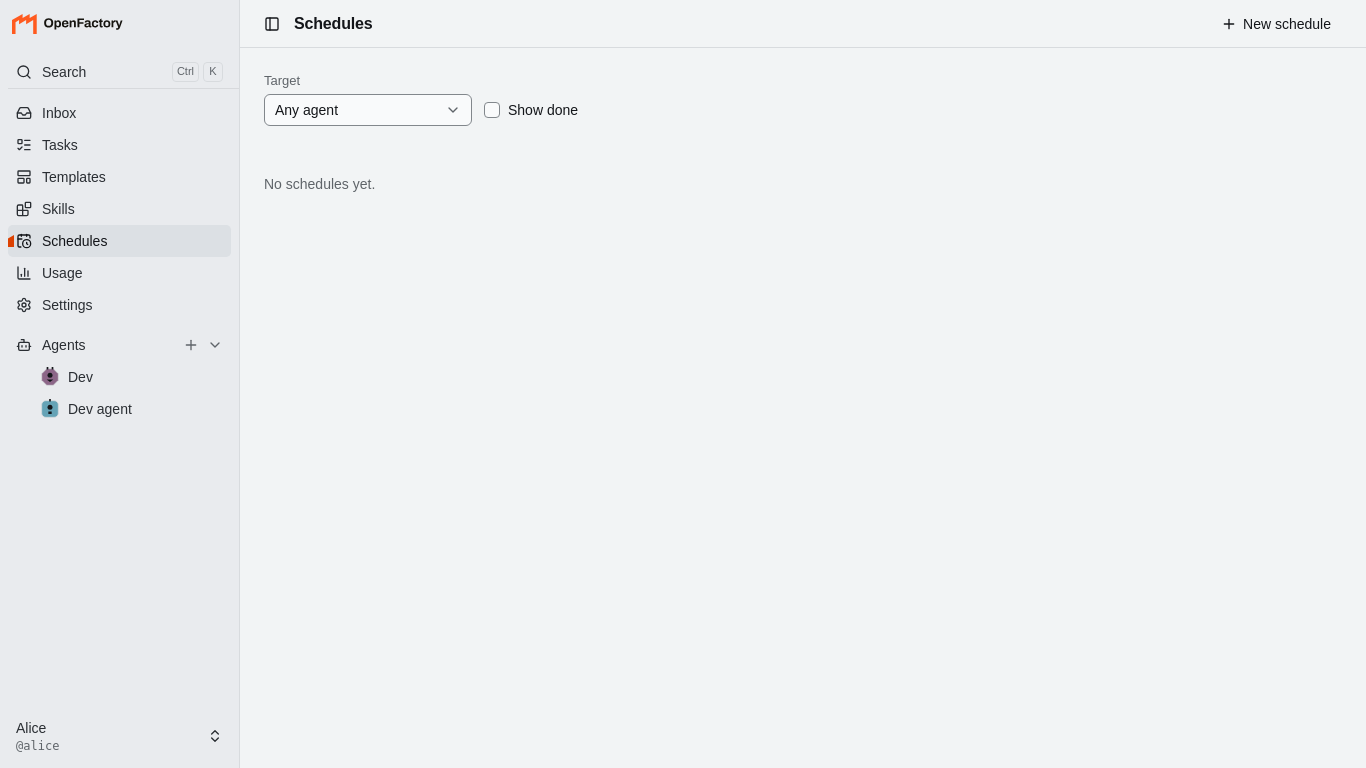
filters live in the URL; empty states, and the cap line
This screenshot has width=1366, height=768.
Expected: the text "No schedules yet." is shown, [264,176,375,192]
Click the dropdown named "Target": (368, 110) [264,94,472,126]
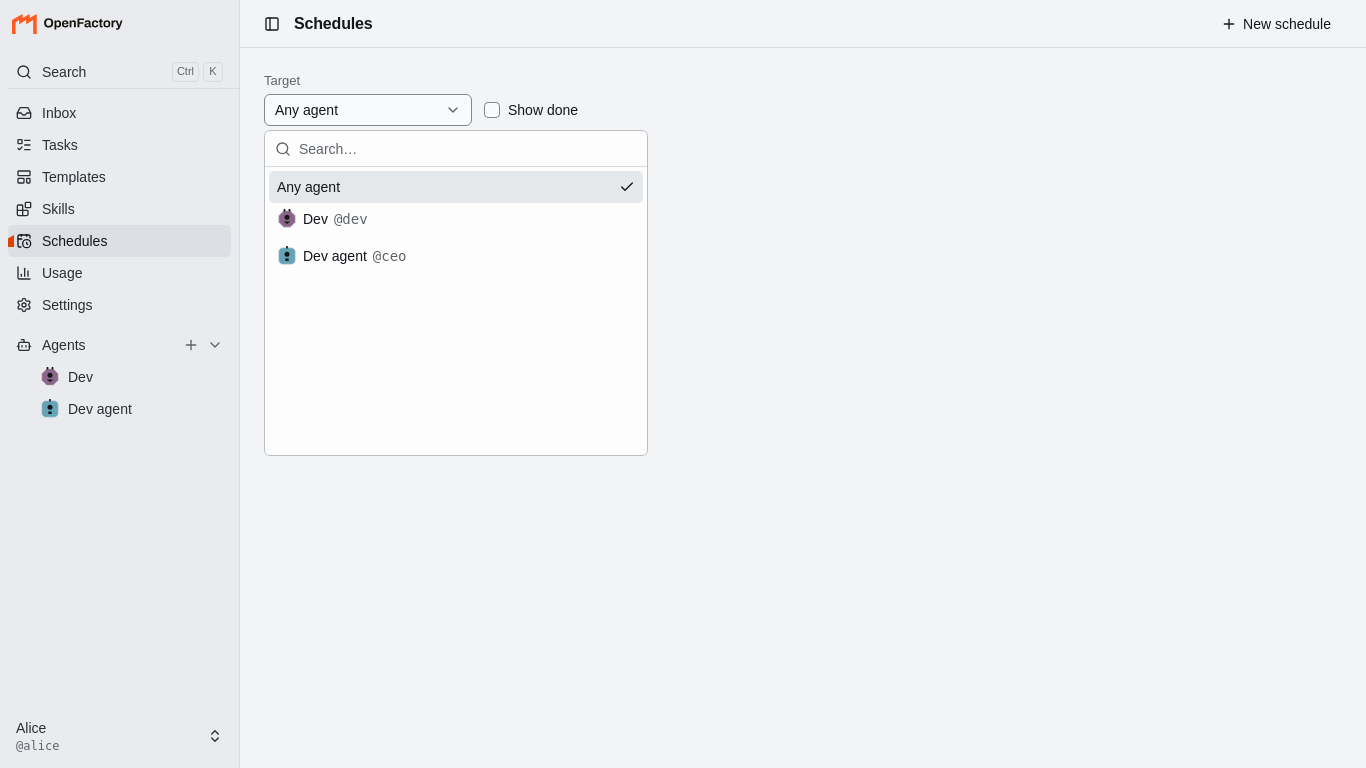
Click the option named "@dev": (322, 219) [277,209,368,229]
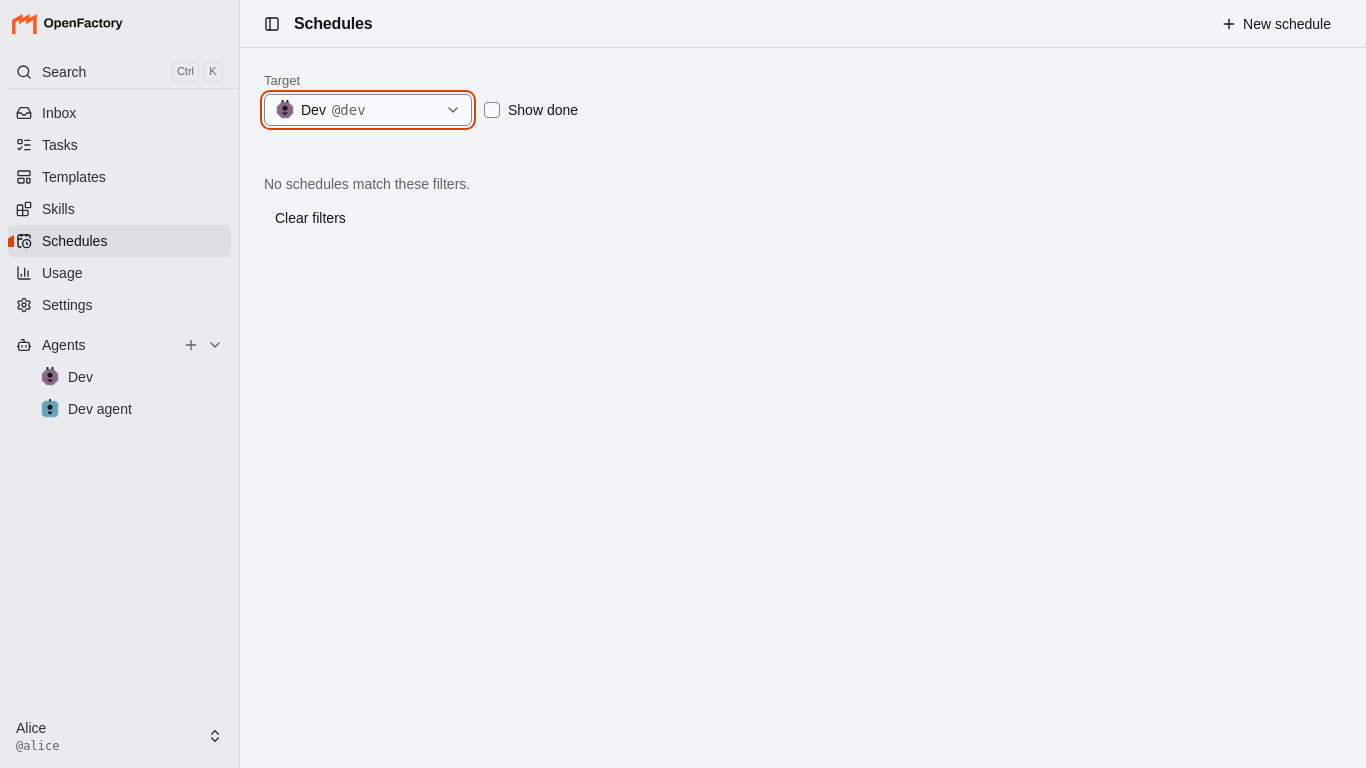
Result: the text "No schedules match these filters." is shown at [264,174,470,194]
Click the checkbox named "Show done": (492, 110) [484,102,500,118]
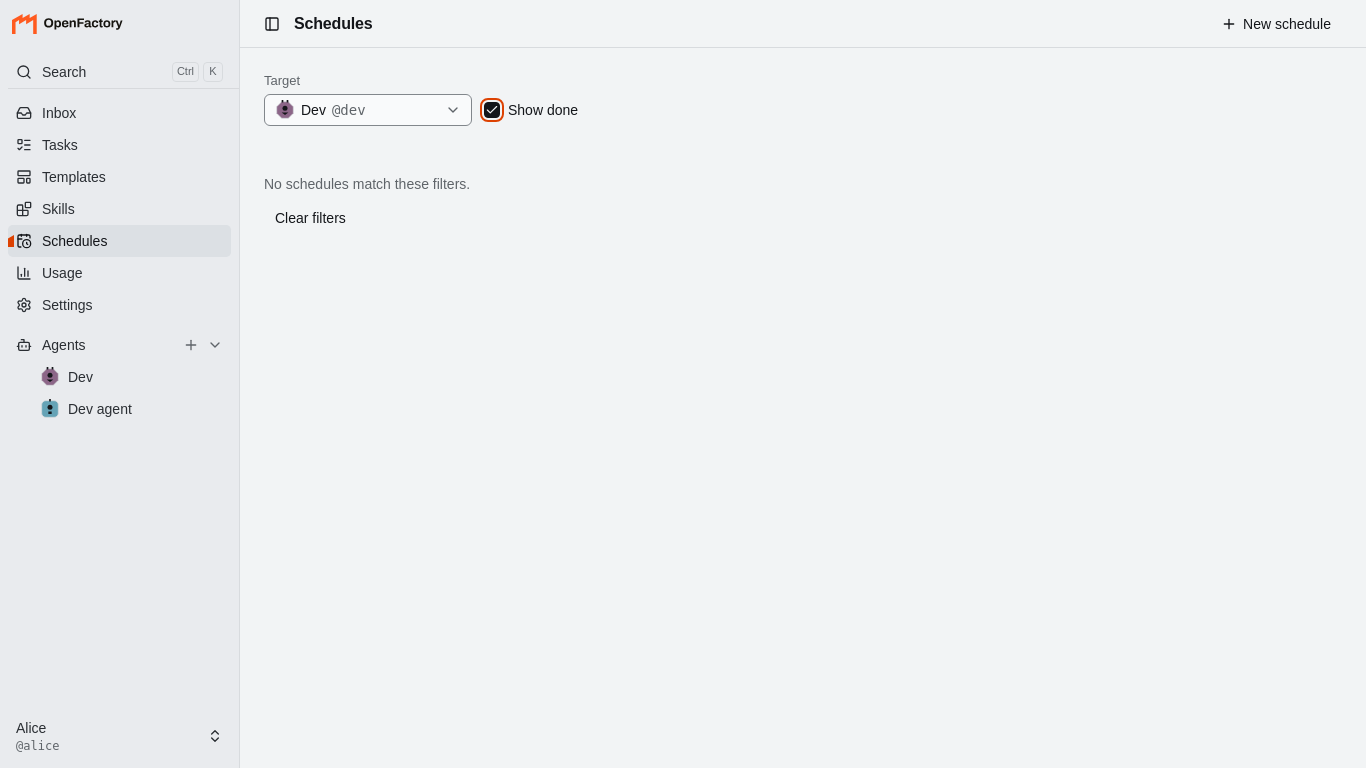
Click the button "Clear filters": (310, 218) [264,202,357,234]
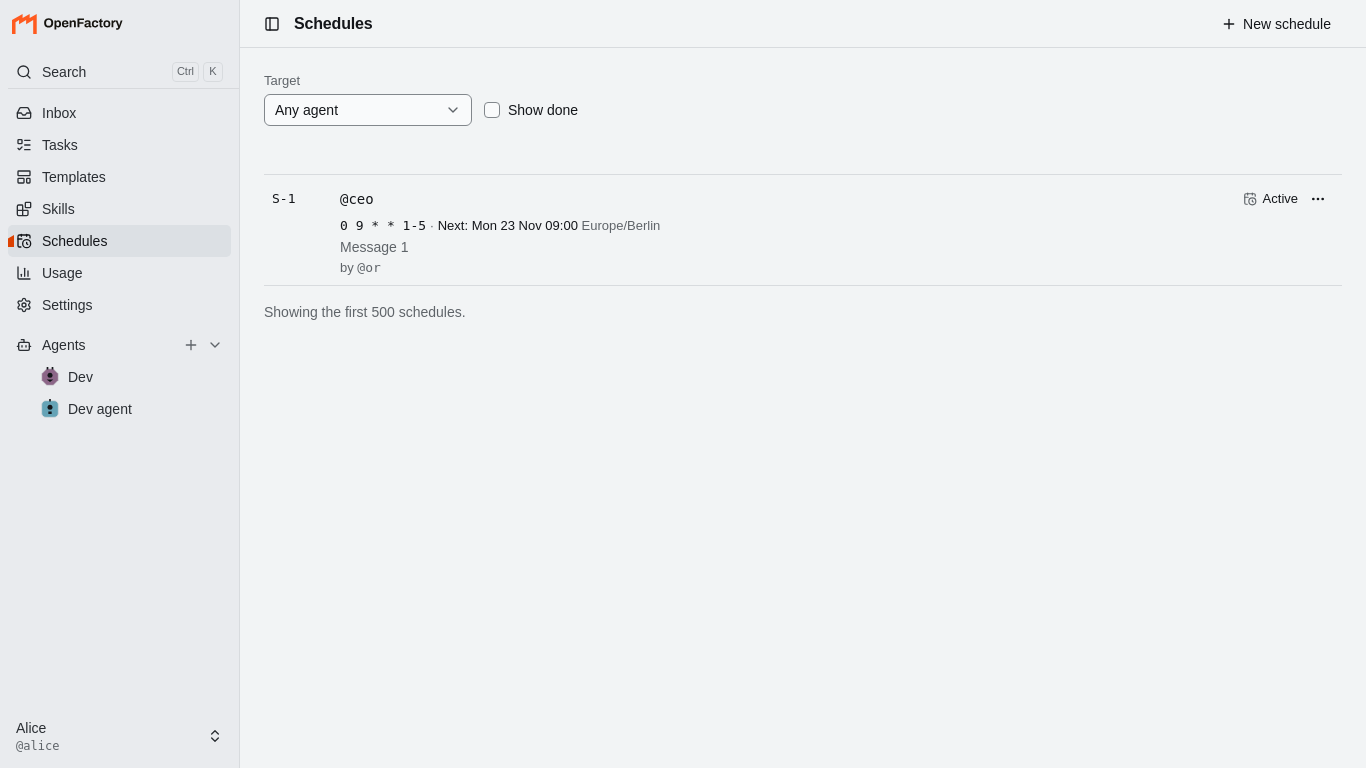
Result: the text "Showing the first 500 schedules." is shown at [264,304,466,320]
